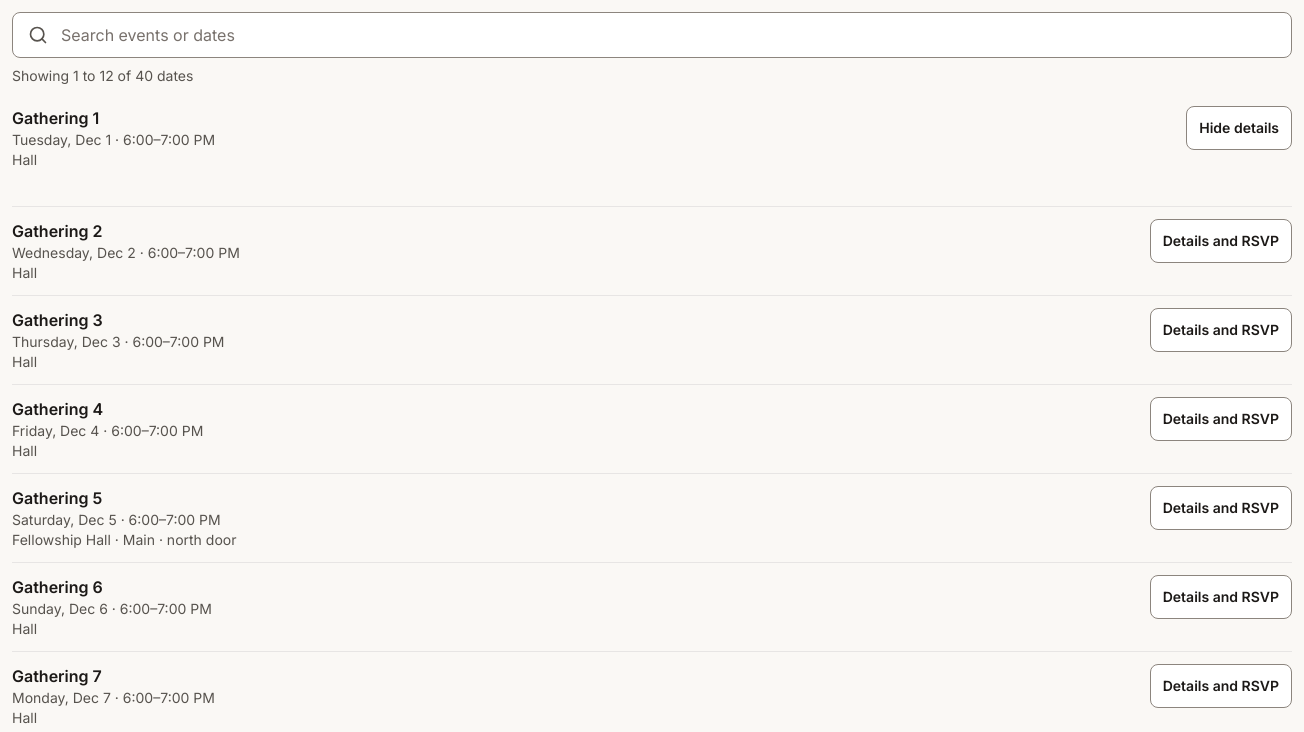
Test case: shows and searches a confirmed room and building before typed directions
Expected: the text "Fellowship Hall · Main · north door" is shown, [12, 530, 236, 550]
In the search field: (652, 35) [12, 12, 1292, 58], type "Fellowship Hall"
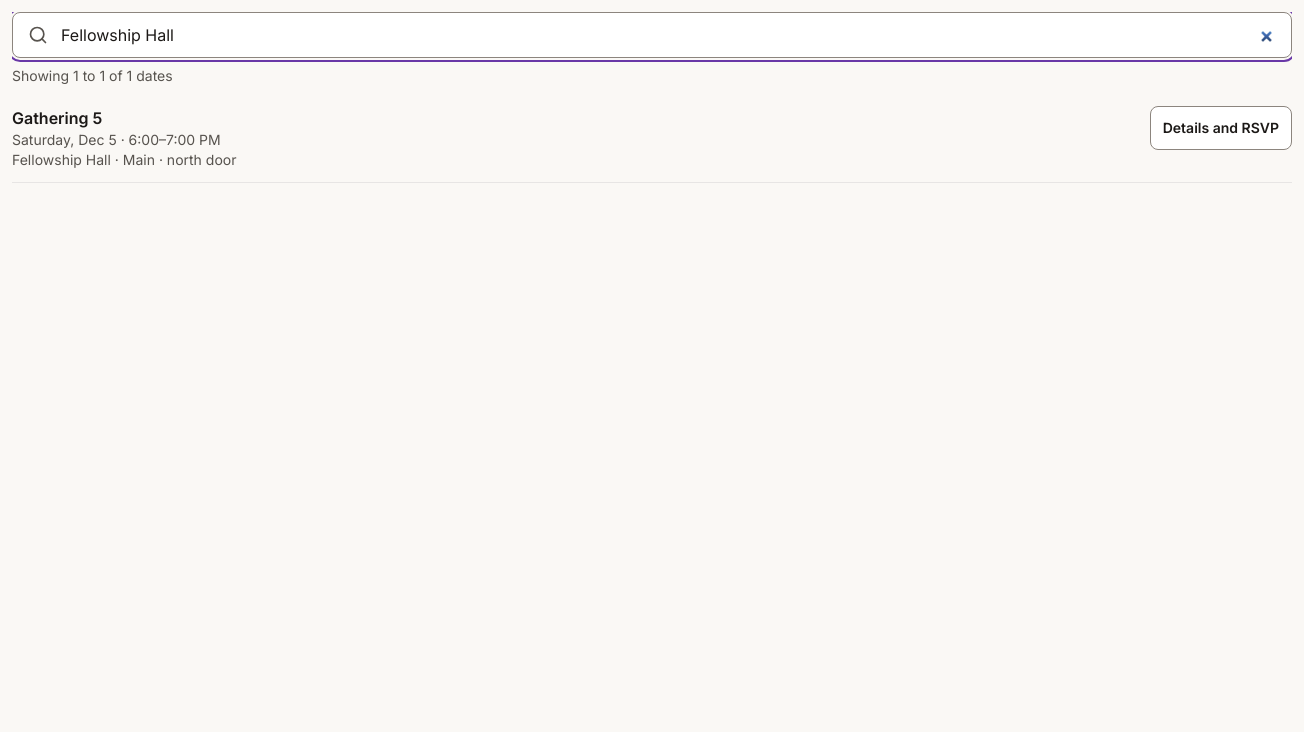
Expected: the button with aria-label "Details and RSVP: Gathering 5," is shown, [1150, 106, 1292, 150]
Now the message reads "Showing 1 to 1 of 1 dates", box [12, 67, 173, 84]
